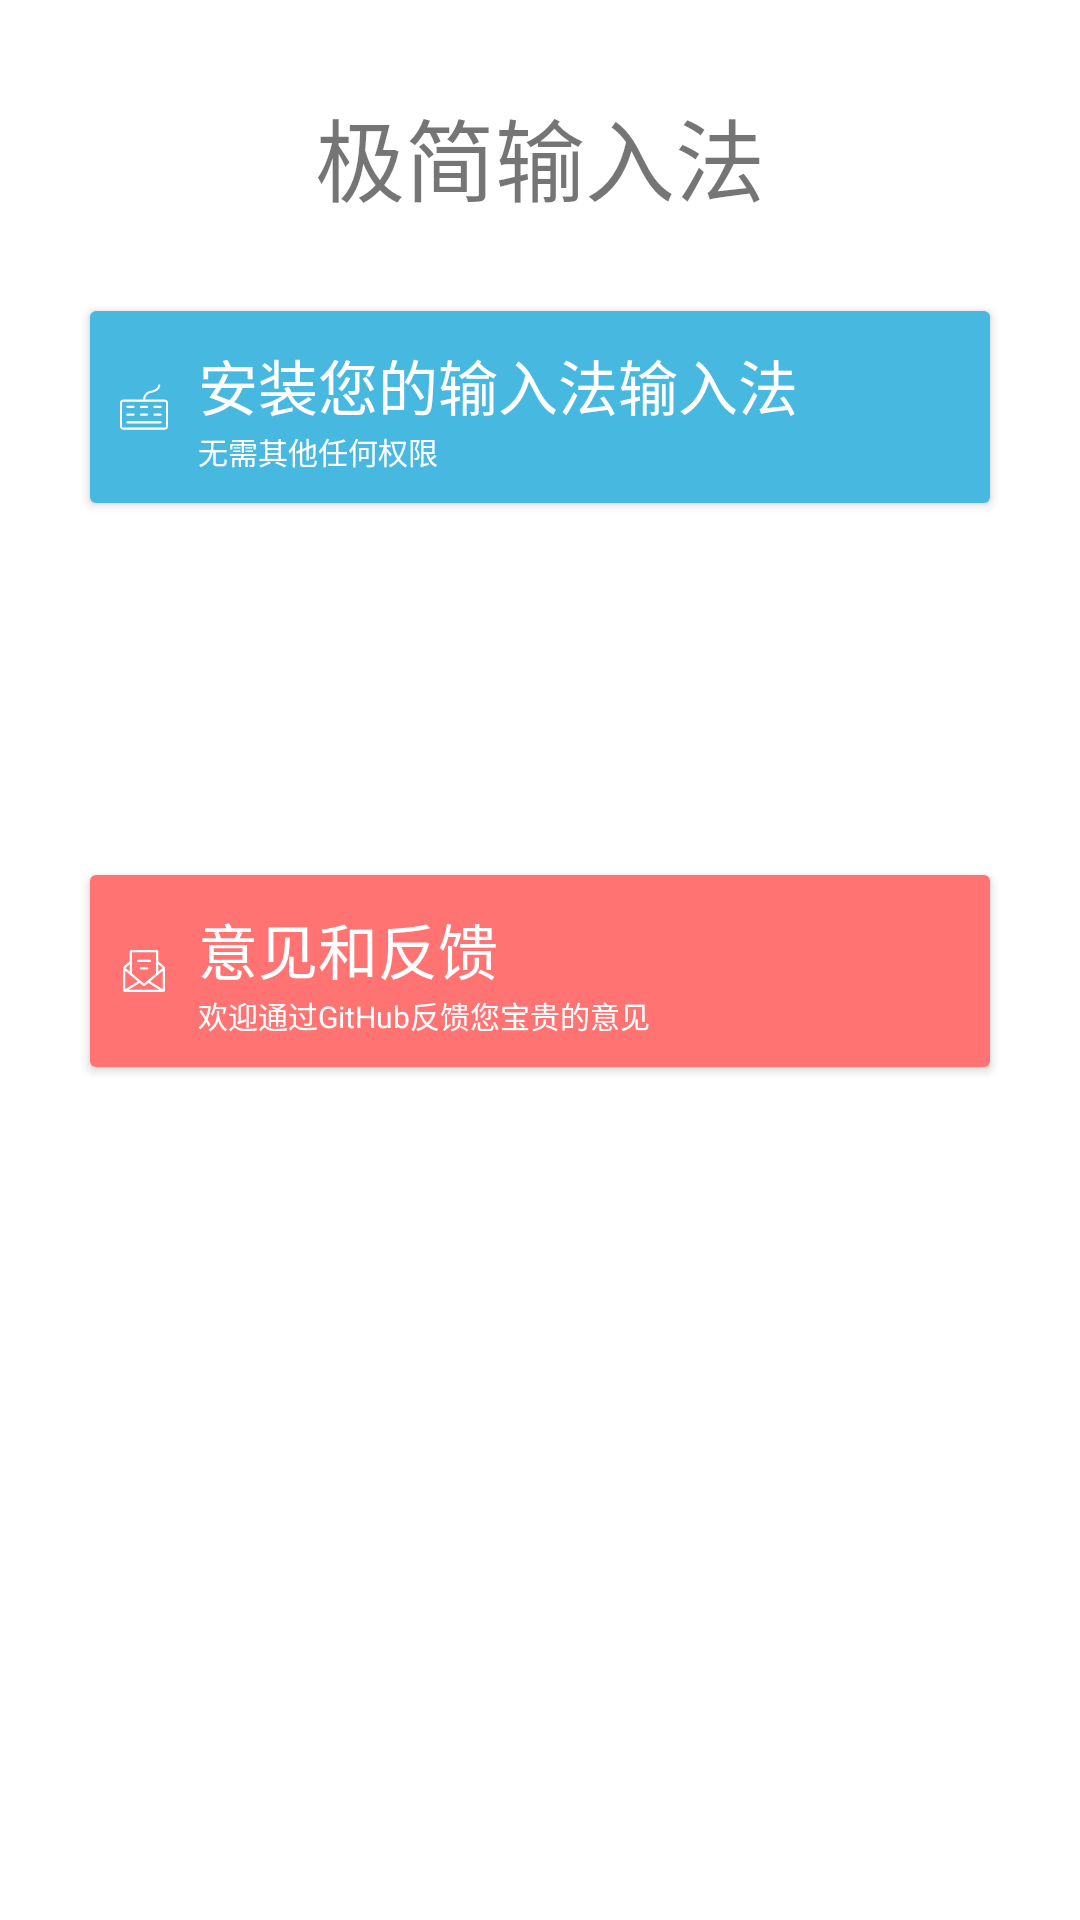

Icons on this 1080px x 1920px Android screen, each with the point to tap as (x,y):
advise: (144,971)
